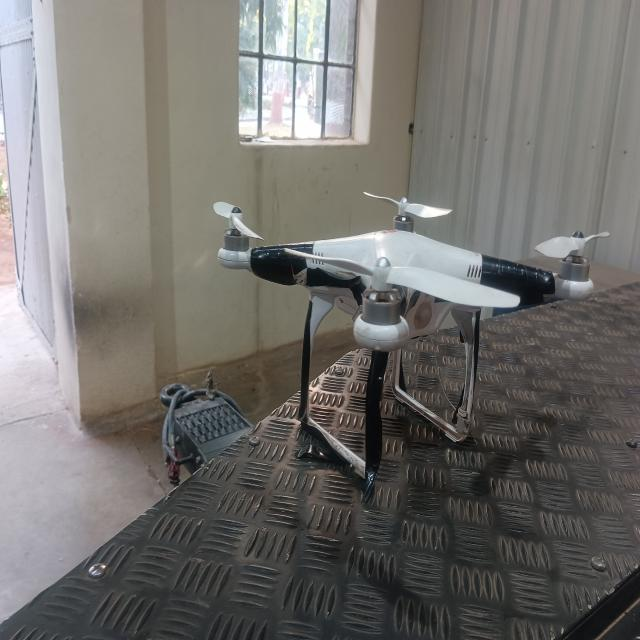drone: (188, 152, 620, 514)
